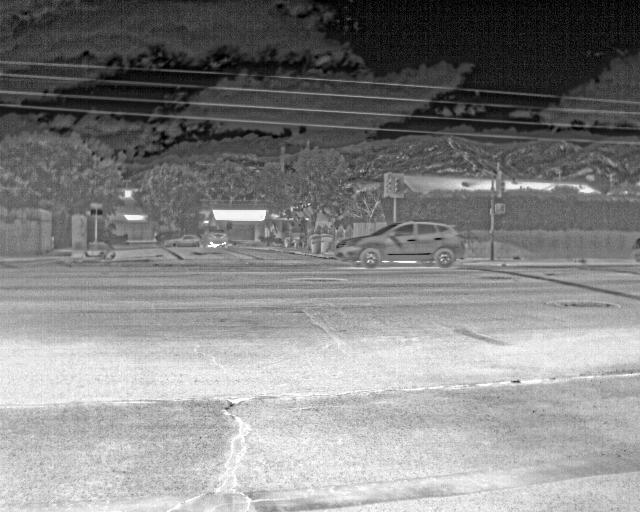car: (336, 220, 467, 270), (158, 232, 200, 248), (204, 230, 228, 248)
